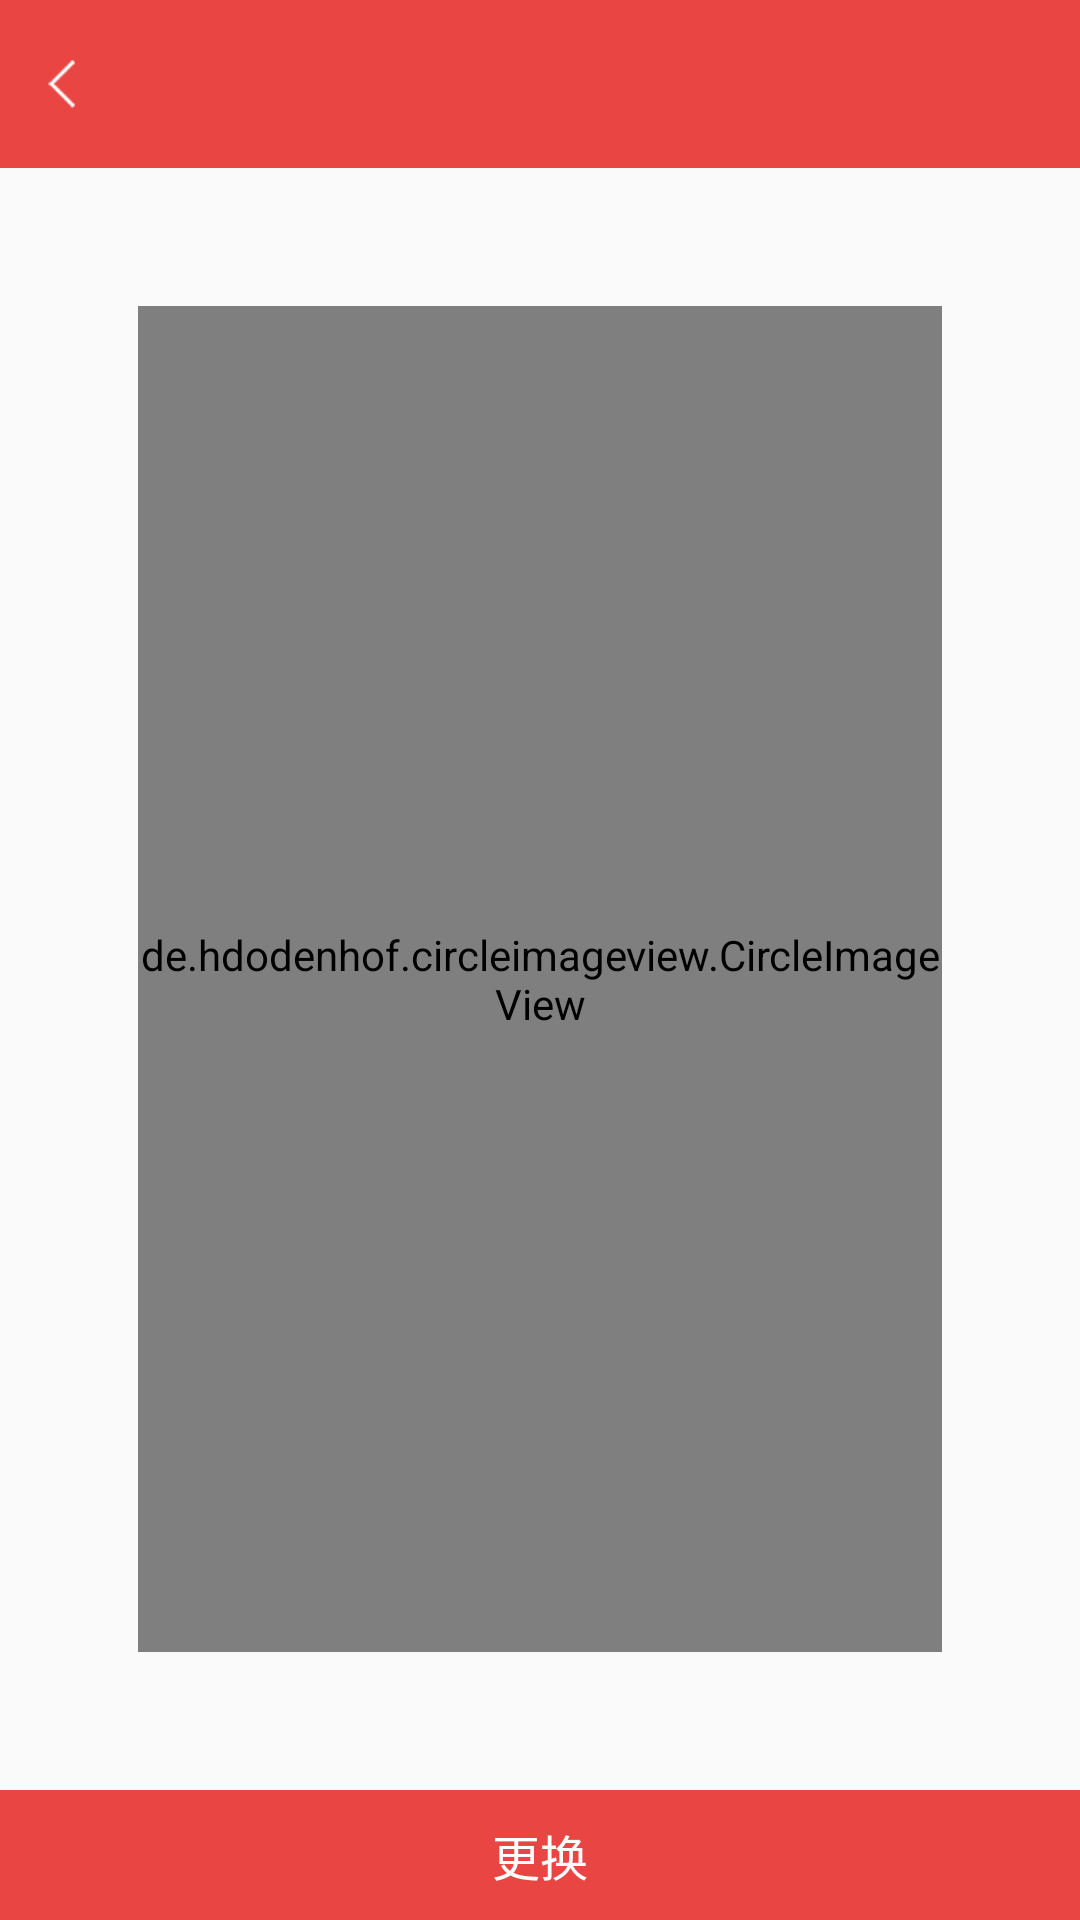

Locate icon controls on the screen. Image size 1080px x 1920px, boxes as (x1, y1, x2, y2).
back: (48, 60, 75, 108)
